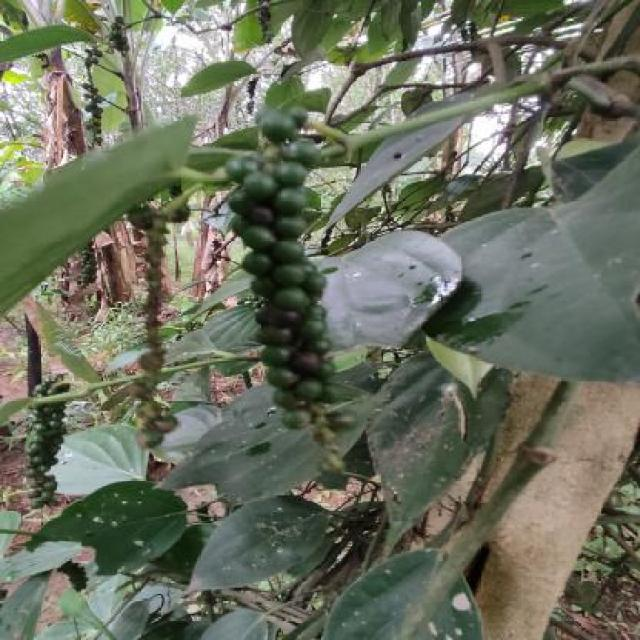UNRIPE: (223, 112, 339, 428), (133, 225, 176, 448), (28, 377, 71, 509), (85, 48, 106, 143), (57, 558, 88, 591), (80, 239, 98, 285), (111, 17, 131, 52), (260, 2, 275, 43)
